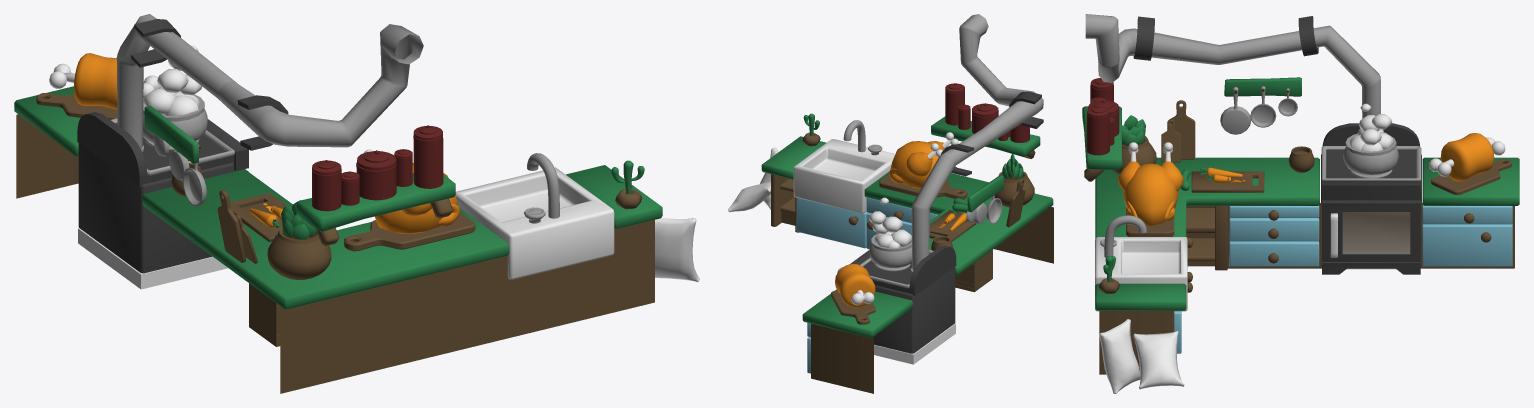
File: Kitchen.fbx
3 views of the same model, side by side, from view 1: azimuth 30°, elevation 25°; view 2: azimuth 150°, elevation 25°; view 3: azimuth 270°, elevation 25° (orthographic). The views are drawn at different scales.
Visible parts, largest first — view 1: Cube.057, Cube.061, Rectangle, Cube.082, Cube.069, Cube.068, Cube.084, Cylinder.040, Sphere.001, Cylinder.041, Cube.072, Cube.066 (+18 smaller); view 2: Cube.061, Cube.057, Rectangle, Cube.082, Cube.069, Cube.062, Cube.068, Sphere.001, Sphere.037, Cylinder.041, Cube.084, Cylinder.040 (+18 smaller); view 3: Cube.061, Cube.062, Cube.063, Rectangle, Cube.057, Cube.082, Sphere.037, Sphere.001, Cube.068, Cylinder.041, Cube.073, Cube.072 (+21 smaller).
Boxes of the visible parts, <box> form: Cube.057: <box>16,114,654,393</box>; Cube.061: <box>14,86,662,309</box>; Rectangle: <box>116,14,423,148</box>; Cube.082: <box>455,167,614,279</box>; Cube.069: <box>78,143,234,273</box>; Cube.068: <box>77,112,234,187</box>; Cube.084: <box>296,173,455,246</box>; Cylinder.040: <box>267,200,331,279</box>; Sphere.001: <box>143,45,207,145</box>; Cylinder.041: <box>49,53,159,109</box>; Cube.072: <box>655,218,699,282</box>; Cube.066: <box>78,228,228,289</box>; Cube.061: <box>761,136,1053,338</box>; Cube.057: <box>771,174,1053,393</box>; Rectangle: <box>911,14,1043,270</box>; Cube.082: <box>793,139,895,213</box>; Cube.069: <box>873,267,955,353</box>; Cube.062: <box>796,197,937,373</box>; Cube.068: <box>863,246,956,295</box>; Sphere.001: <box>869,197,912,267</box>; Sphere.037: <box>888,132,958,188</box>; Cylinder.041: <box>835,264,875,307</box>; Cube.084: <box>931,116,1040,158</box>; Cylinder.040: <box>994,153,1034,207</box>; Cube.061: <box>1095,157,1519,310</box>; Cube.062: <box>1174,205,1512,353</box>; Cube.063: <box>1322,180,1420,274</box>; Rectangle: <box>1085,14,1380,118</box>; Cube.057: <box>1099,203,1514,374</box>; Cube.082: <box>1095,237,1187,311</box>; Sphere.037: <box>1118,142,1183,225</box>; Sphere.001: <box>1343,103,1398,174</box>; Cube.068: <box>1322,123,1419,178</box>; Cylinder.041: <box>1429,133,1505,181</box>; Cube.073: <box>1133,331,1184,389</box>; Cube.072: <box>1099,319,1140,393</box>.
Size of the model in its own units: 3.31 by 2.41 by 3.6.
